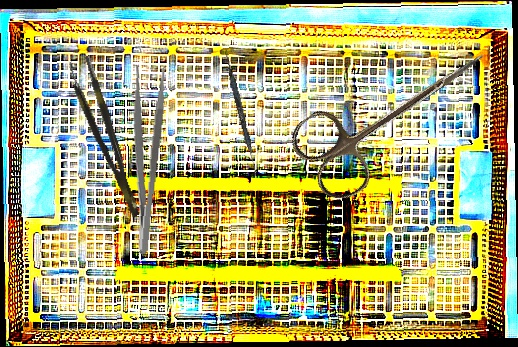Dressing Forceps: (118, 63, 169, 255)
Iris Scissors: (282, 14, 508, 209)
Spatula Surgical: (220, 49, 262, 178)
Tissue Forceps: (65, 55, 143, 222)
